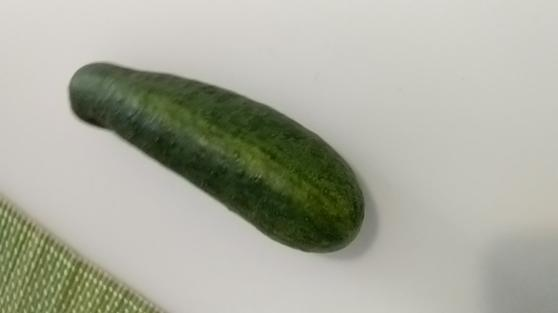cucumber: (70, 60, 364, 253)
